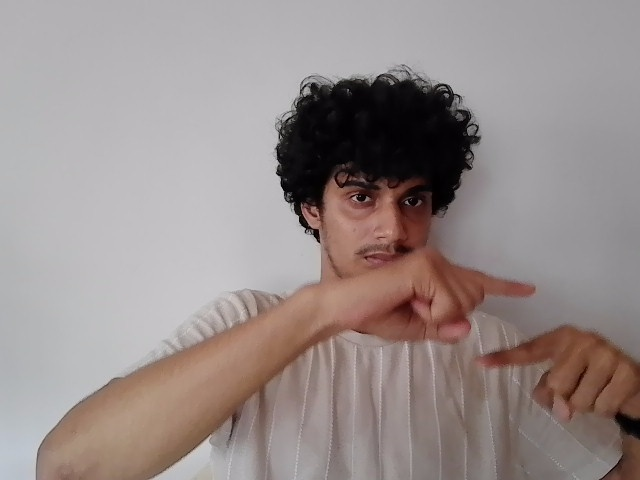about: (293, 246, 640, 418)
